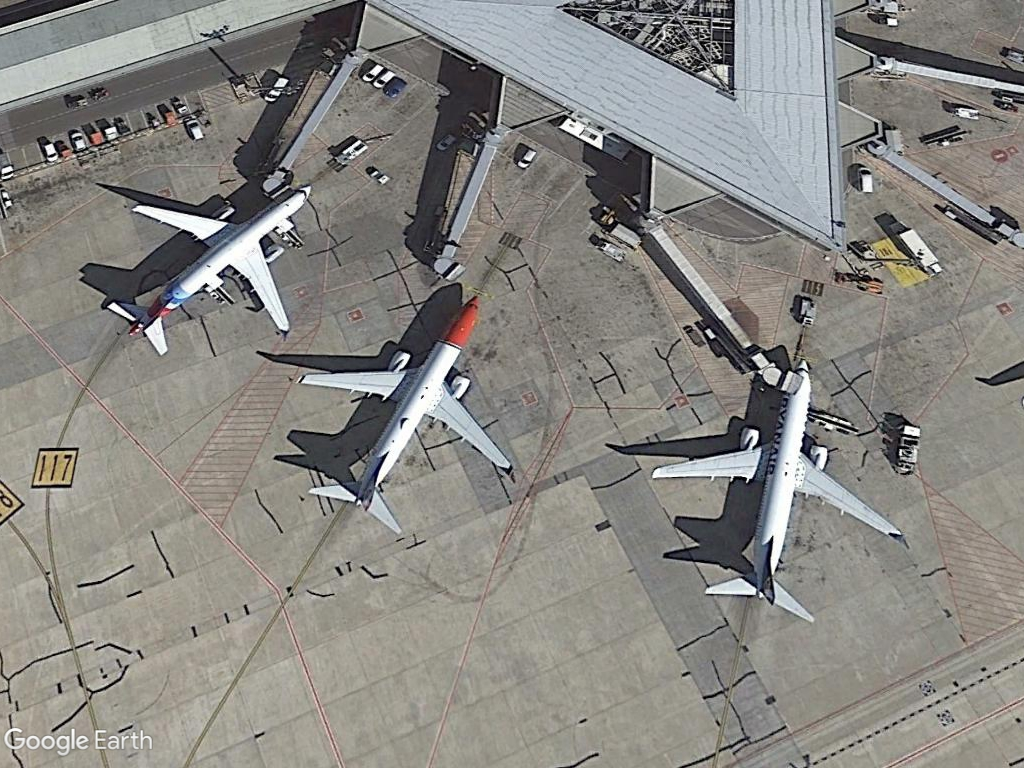airliner: (643, 354, 915, 627), (288, 286, 525, 548), (93, 173, 315, 361)
pushbacktruck: (331, 135, 370, 168), (592, 236, 630, 263)
truck: (883, 221, 948, 278)
